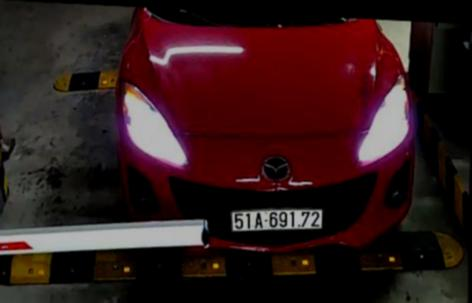License_Plate: (228, 205, 325, 236)
